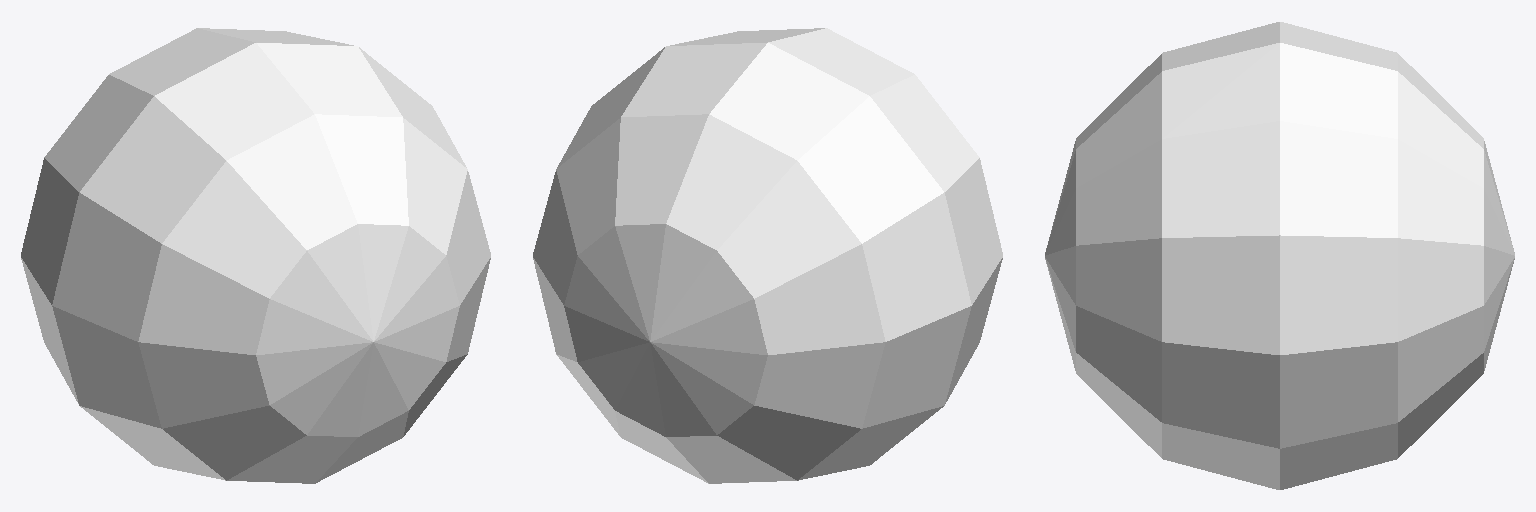
The picture shows the model from 3 angles: view 1: azimuth 30°, elevation 25°; view 2: azimuth 150°, elevation 25°; view 3: azimuth 270°, elevation 25°; orthographic projection.
Visible parts, largest first — view 1: translation_center; view 2: translation_center; view 3: translation_center.
Part boxes in pixels (left/top/right/bottom): translation_center: left=21, top=28, right=490, bottom=483; translation_center: left=533, top=28, right=1002, bottom=483; translation_center: left=1045, top=22, right=1514, bottom=489.
Bounding box in the file's own units: 10 × 10 × 10.
1 materials, 1 textured.